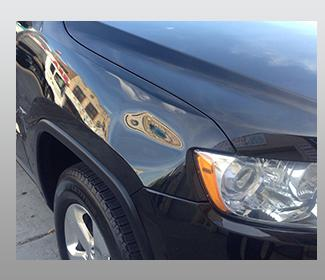dent: (112, 98, 196, 210)
